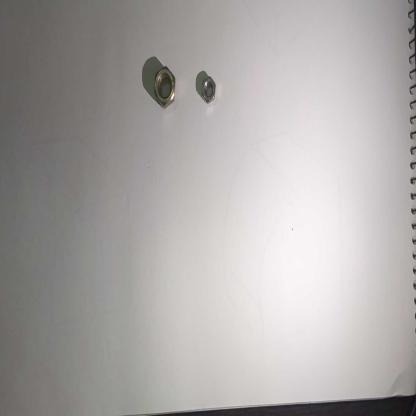NUTS: (152, 62, 179, 112), (199, 74, 222, 106)
